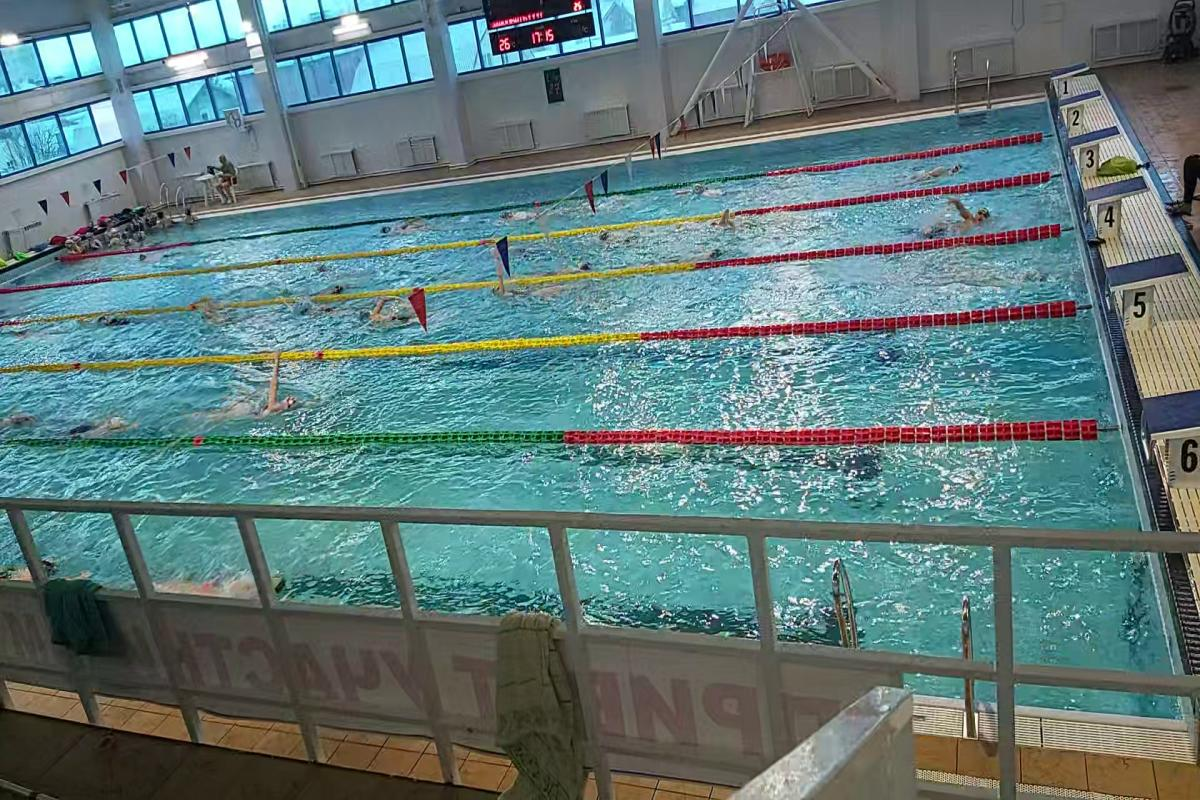swimmer: (200, 363, 310, 424), (155, 556, 255, 598), (484, 268, 564, 309), (928, 196, 997, 237), (69, 410, 140, 434), (896, 158, 969, 181), (190, 295, 239, 329), (356, 298, 406, 330), (704, 208, 765, 231), (493, 202, 554, 225), (549, 252, 600, 276), (378, 220, 437, 237), (683, 238, 724, 260), (588, 226, 638, 244), (307, 283, 349, 298)
